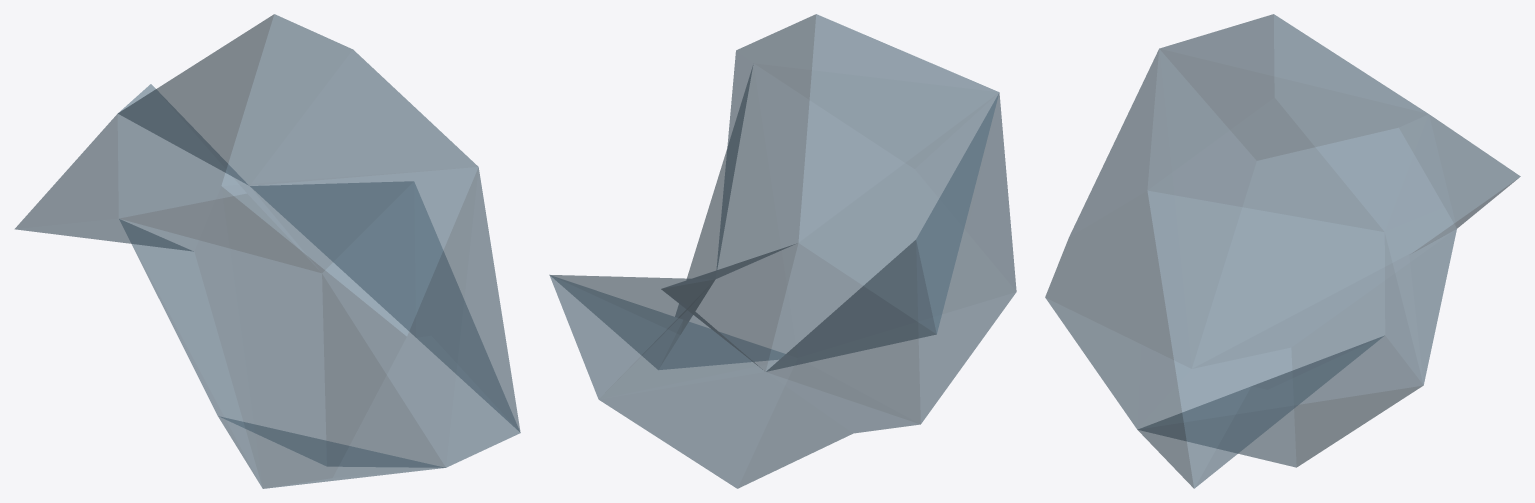
Rendered from particles111.dae.
3 renders of one model, left to right at view 1: azimuth 30°, elevation 25°; view 2: azimuth 150°, elevation 25°; view 3: azimuth 270°, elevation 25°, orthographic. The views are drawn at different scales.
Parts seen in each view (by area): view 1: Platonic.3; view 2: Platonic.3; view 3: Platonic.3.
Part boxes in pixels (left/top/right/bottom): Platonic.3: left=15, top=14, right=520, bottom=488; Platonic.3: left=549, top=14, right=1016, bottom=488; Platonic.3: left=1045, top=14, right=1520, bottom=488.
Bounding box in the file's own units: 154 × 179 × 182.
